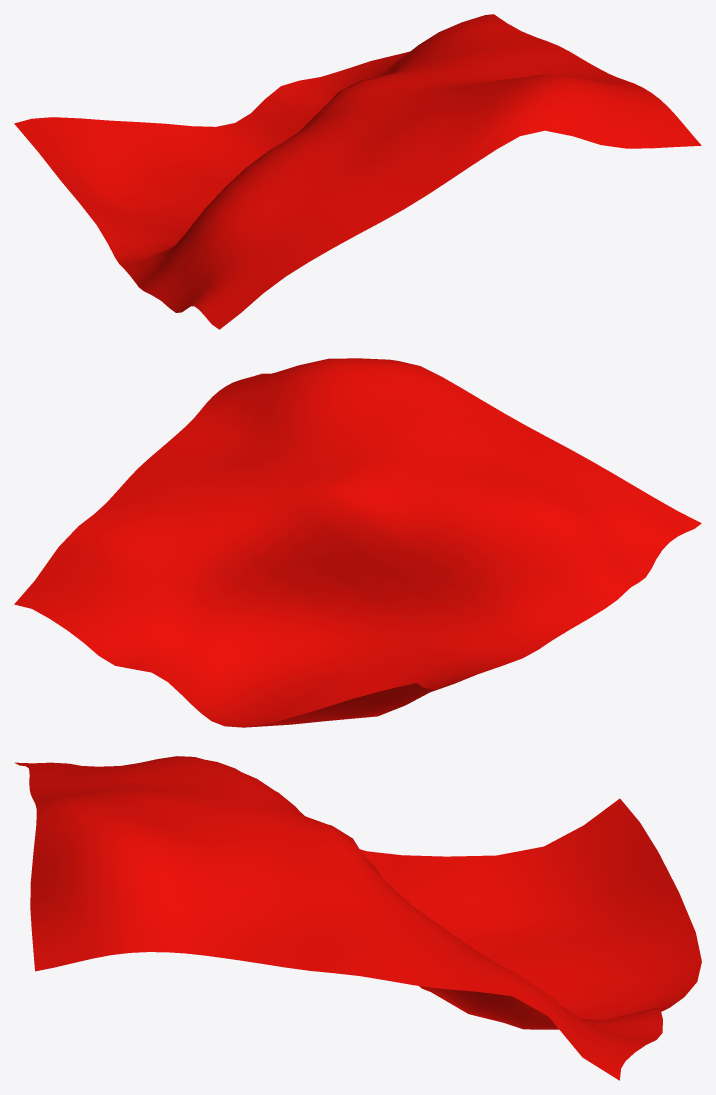
3 views of the same model, one above another, from view 1: azimuth 30°, elevation 25°; view 2: azimuth 150°, elevation 25°; view 3: azimuth 270°, elevation 25° (orthographic). The views are drawn at different scales.
Visible parts, largest first — view 1: T2; view 2: T2; view 3: T2.
Part boxes in pixels (x1=…): T2: x1=14, y1=14, x2=701, y2=329; T2: x1=14, y1=358, x2=701, y2=727; T2: x1=14, y1=756, x2=701, y2=1080.
Size of the model in its own units: 5797 by 2260 by 5823.
